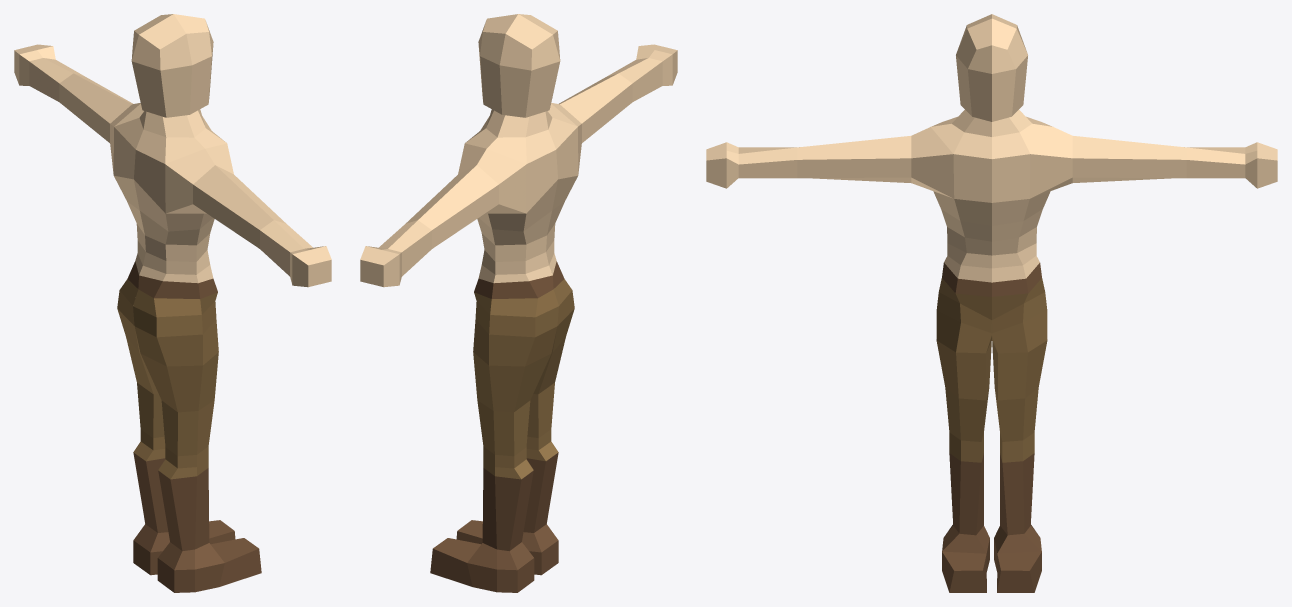
Rendered from pirate.fbx.
3 renders of one model, left to right at view 1: azimuth 30°, elevation 25°; view 2: azimuth 150°, elevation 25°; view 3: azimuth 270°, elevation 25°, orthographic. The views are drawn at different scales.
Visible parts, largest first — view 1: Cube; view 2: Cube; view 3: Cube.
Part boxes in pixels (x1,y1,x2,y2): Cube: (14, 14, 331, 592); Cube: (360, 14, 677, 592); Cube: (706, 14, 1277, 592).
Size of the model in its own units: 2.86 by 14.11 by 13.45.
